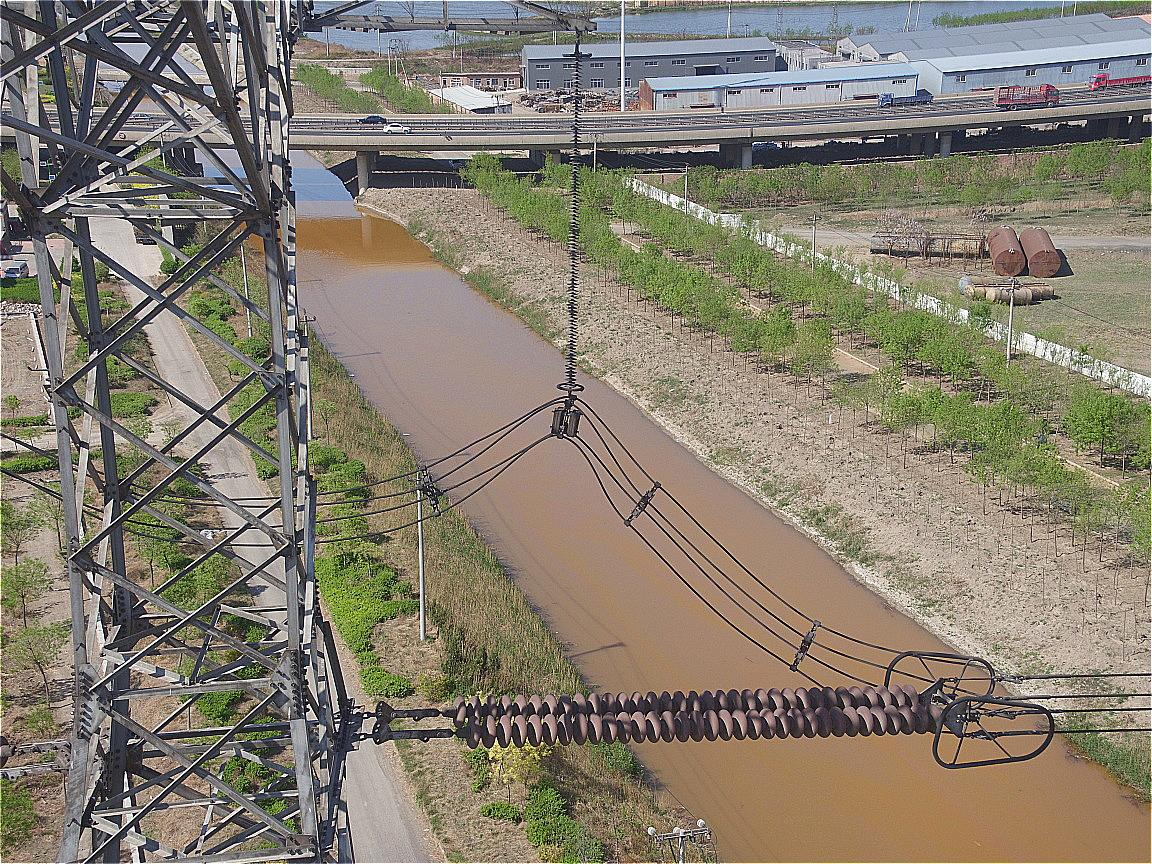insultor1: (452, 685, 942, 748)
